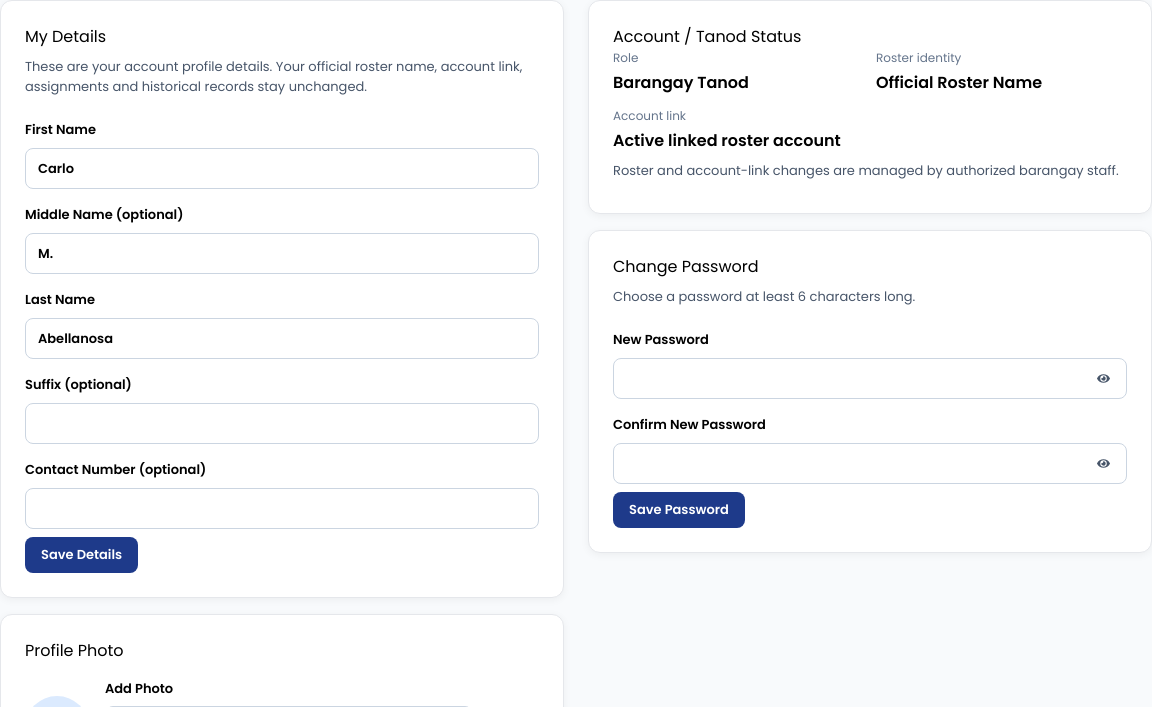
Scenario: loads structured profile fields with read-only roster/link status and saves only the profile
Expected: the text "Official Roster Name" is shown, [876,71,1042,94]
Replace the text in the field labelled "First Name" with "Carlos". click: (282, 168)
box: [25,148,539,189]
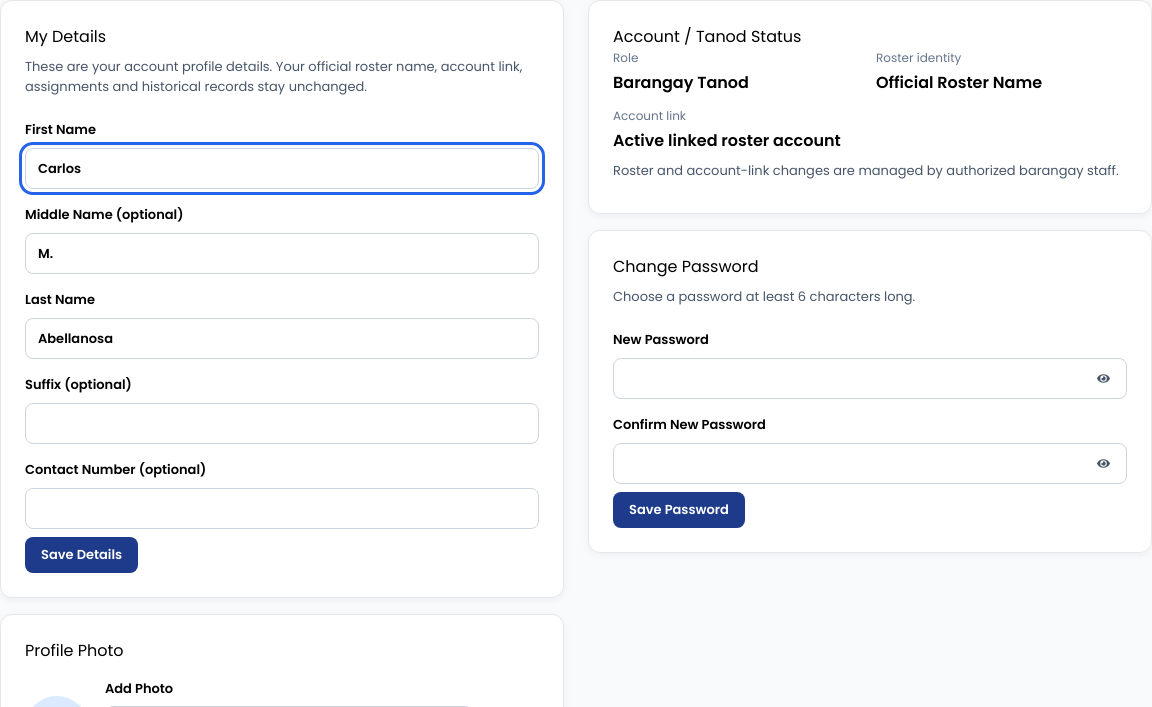
Click the button "Save Details". click: (82, 555)
box: [25,537,138,572]
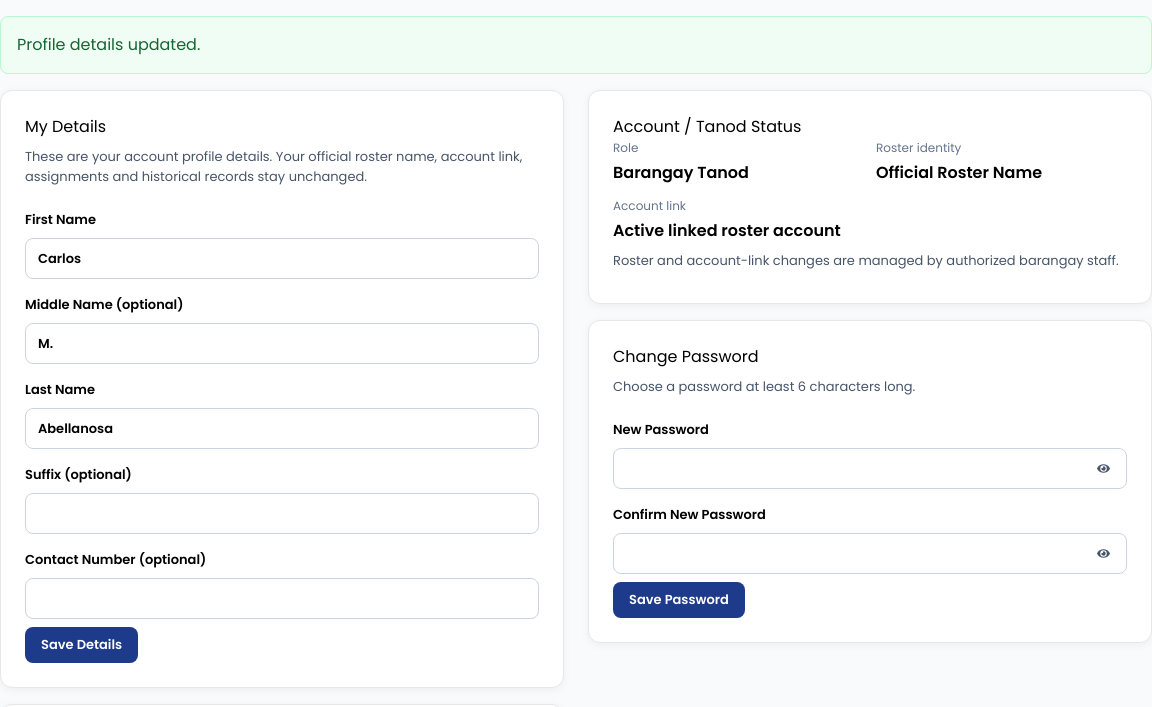
Result: the text "Profile details updated." is shown at [0,16,1151,74]
